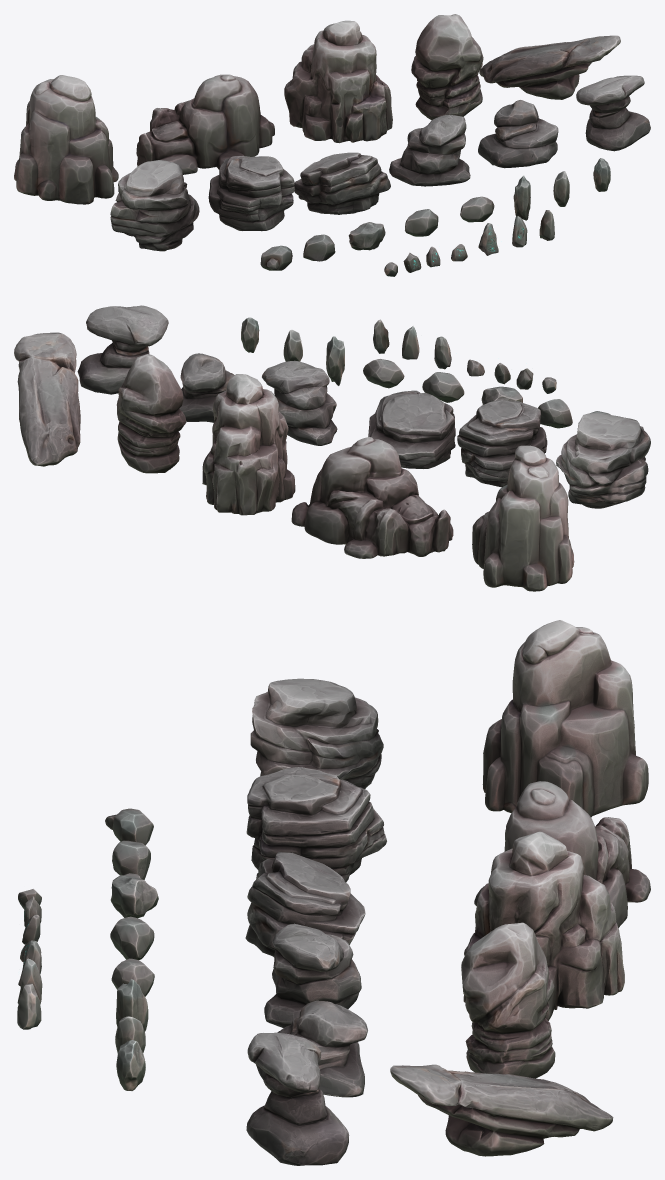
Rendered from stone_pack.glb.
3 renders of one model, top to bottom at view 1: azimuth 30°, elevation 25°; view 2: azimuth 150°, elevation 25°; view 3: azimuth 270°, elevation 25°, orthographic. The views are drawn at different scales.
Visible parts, largest first — view 1: BIG_1_BiG_0, Big_3_BiG_0, Big_2_BiG_0, Mid_4_MID_0 (×2), Mid_1_MID_0, Big_4_BiG_0, Mid_2_MID_0, Big_5_BiG_0, Mid_3_MID_0, Mid_5_MID_0, Small_3_SMall_0, Small_4_SMall_0 (+9 smaller); view 2: Big_2_BiG_0, BIG_1_BiG_0, Big_3_BiG_0, Big_5_BiG_0, Mid_1_MID_0, Mid_4_MID_0 (×2), Big_4_BiG_0, Mid_2_MID_0, Mid_3_MID_0, Mid_5_MID_0, Small_4_SMall_0, Small_5_SMall_0 (+8 smaller); view 3: BIG_1_BiG_0, Big_3_BiG_0, Big_5_BiG_0, Big_4_BiG_0, Mid_4_MID_0 (×2), Mid_2_MID_0, Mid_1_MID_0, Mid_5_MID_0, Big_2_BiG_0, Mid_3_MID_0, Small_3_SMall_0, Small_4_SMall_0 (+7 smaller).
Boxes of the visible parts, <box> form: BIG_1_BiG_0: <box>14,75,118,204</box>; Big_3_BiG_0: <box>284,20,392,143</box>; Big_2_BiG_0: <box>136,74,274,174</box>; Mid_4_MID_0 (×2): <box>389,100,558,186</box>; Mid_1_MID_0: <box>110,160,199,251</box>; Big_4_BiG_0: <box>411,14,483,120</box>; Mid_2_MID_0: <box>208,156,294,231</box>; Big_5_BiG_0: <box>479,35,620,99</box>; Mid_3_MID_0: <box>294,152,390,214</box>; Mid_5_MID_0: <box>576,75,650,151</box>; Small_3_SMall_0: <box>348,222,385,250</box>; Small_4_SMall_0: <box>405,209,438,236</box>; Big_2_BiG_0: <box>291,437,453,558</box>; BIG_1_BiG_0: <box>472,445,574,591</box>; Big_3_BiG_0: <box>202,374,295,515</box>; Big_5_BiG_0: <box>14,332,80,466</box>; Mid_1_MID_0: <box>556,413,650,508</box>; Mid_4_MID_0 (×2): <box>179,353,337,445</box>; Big_4_BiG_0: <box>116,354,186,473</box>; Mid_2_MID_0: <box>457,400,547,487</box>; Mid_3_MID_0: <box>368,390,455,468</box>; Mid_5_MID_0: <box>77,305,168,394</box>; Small_4_SMall_0: <box>422,372,464,402</box>; Small_5_SMall_0: <box>363,359,404,388</box>; BIG_1_BiG_0: <box>482,620,648,817</box>; Big_3_BiG_0: <box>463,831,624,1020</box>; Big_5_BiG_0: <box>390,1064,613,1156</box>; Big_4_BiG_0: <box>461,922,555,1078</box>; Mid_4_MID_0 (×2): <box>256,923,367,1097</box>; Mid_2_MID_0: <box>246,767,386,882</box>; Mid_1_MID_0: <box>250,678,383,788</box>; Mid_5_MID_0: <box>246,1032,349,1165</box>; Big_2_BiG_0: <box>474,781,650,927</box>; Mid_3_MID_0: <box>245,852,365,957</box>; Small_3_SMall_0: <box>110,873,158,918</box>; Small_4_SMall_0: <box>110,916,154,959</box>.
Size of the model in its own units: 29.58 by 6.14 by 19.08.
Materials: 6 (6 with a texture image).
